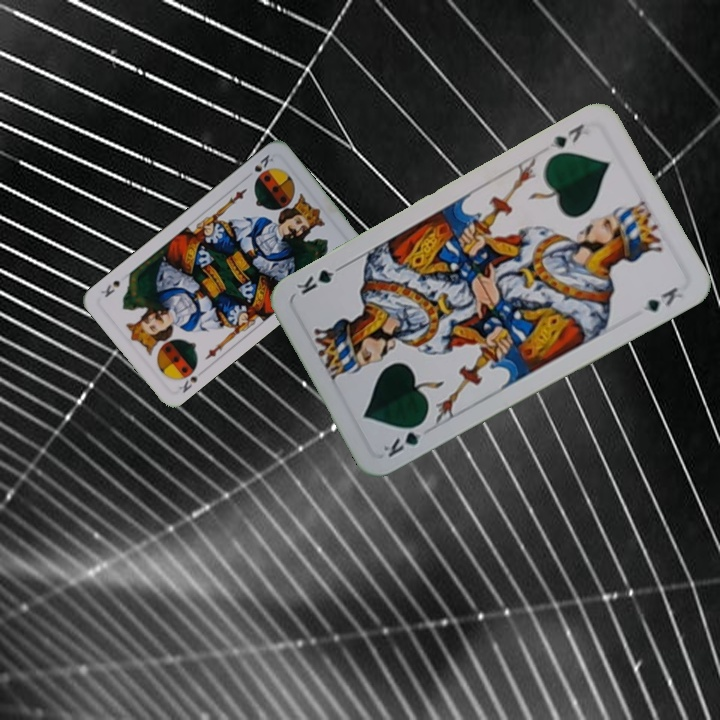GK: (379, 417, 428, 460), (546, 119, 587, 151)
SK: (242, 150, 276, 181), (175, 372, 200, 396)
